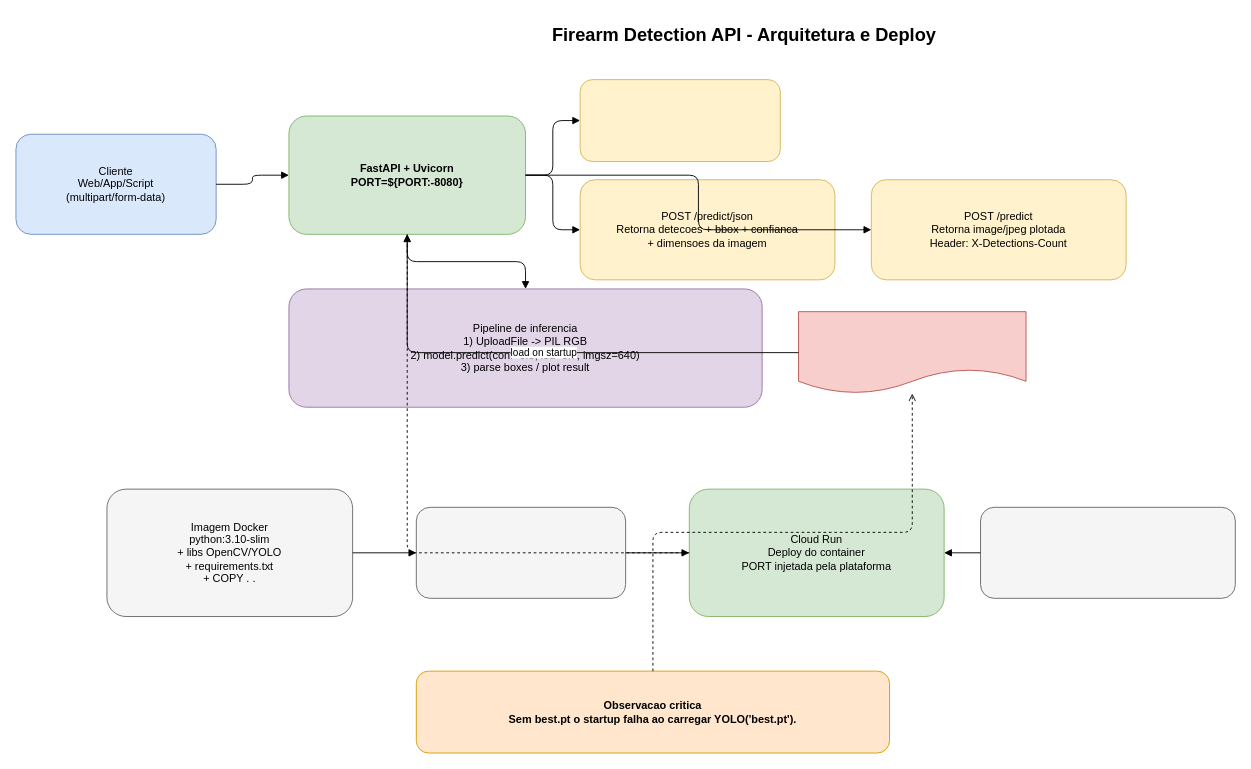
The diagram is 1251 pixels wide and 769 high, and some of its shapes have lost their labels. The shapes that lost their labels are listed below. From the top down, each one's centre as x and y in pixels, then its label:
the point at 679,120: GET / Health check {status: ok}
the point at 912,352: Modelo YOLO best.pt (obrigatorio no runtime)
the point at 520,552: Container Registry Imagem versionada
the point at 1107,552: Runtime vars PYTHONUNBUFFERED=1 YOLO_CONFIG_DIR=/tmp/Ultralytics
